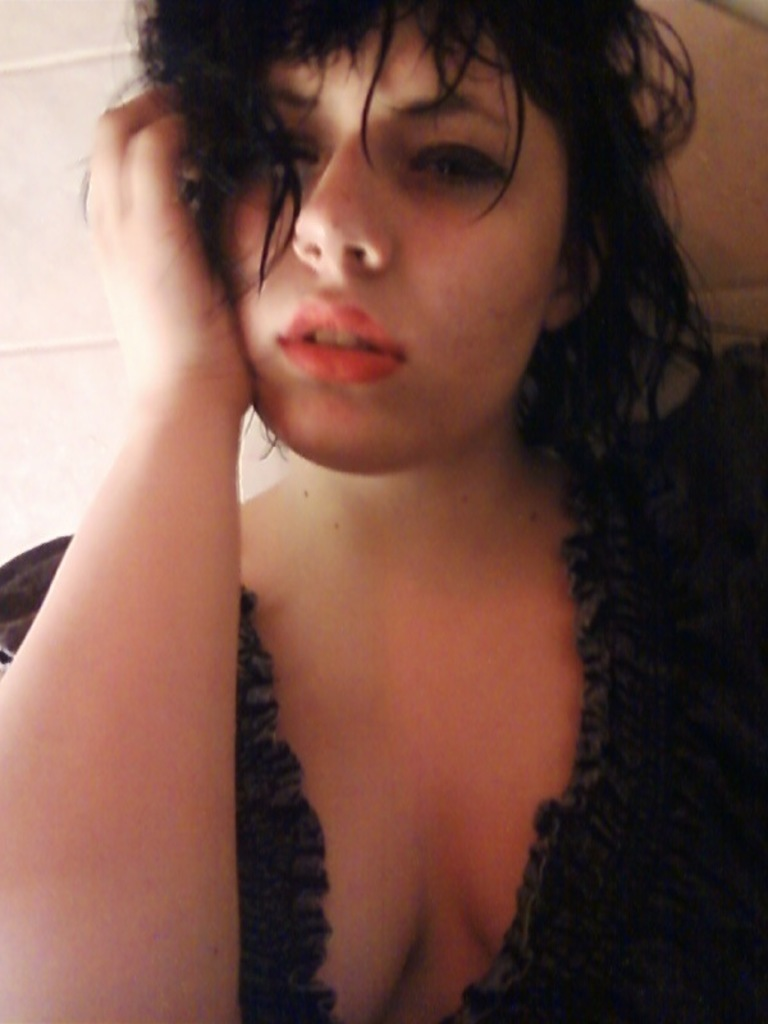Human_hand: (88, 86, 251, 403)
